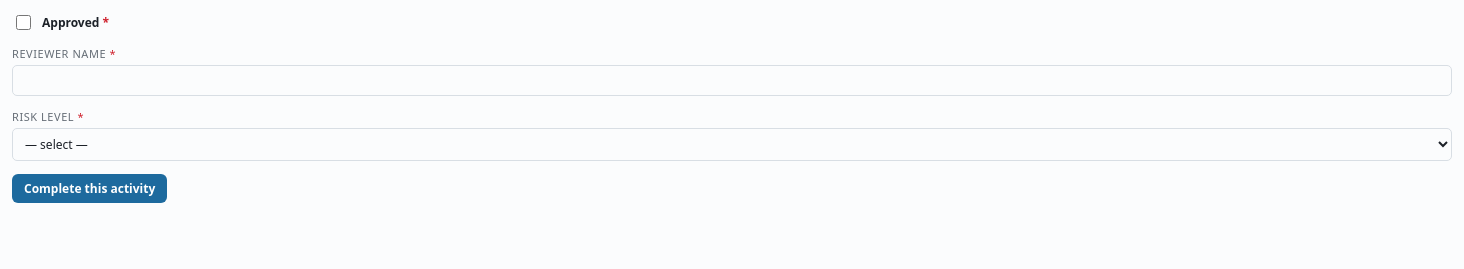
Test: CompleteForm › shows the server's field errors verbatim on a 400 and stays for a retry
The image size is (1464, 269).
// A client-clean submit (all required present) still reaches the server, which rejects it.
Click the checkbox labelled "Approved *".
click(24, 22)  # box [16,15,31,30]
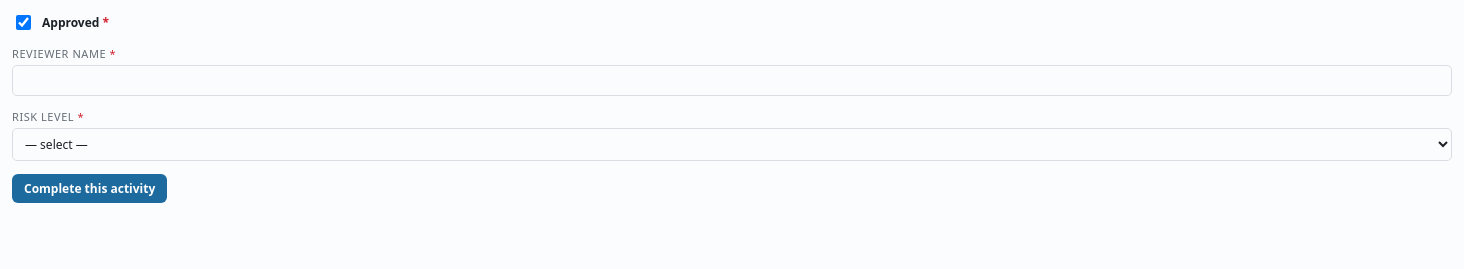
Type "Dana" into the field labelled "Reviewer name *".
click(732, 80); type("Dana")  # box [12,65,1452,96]
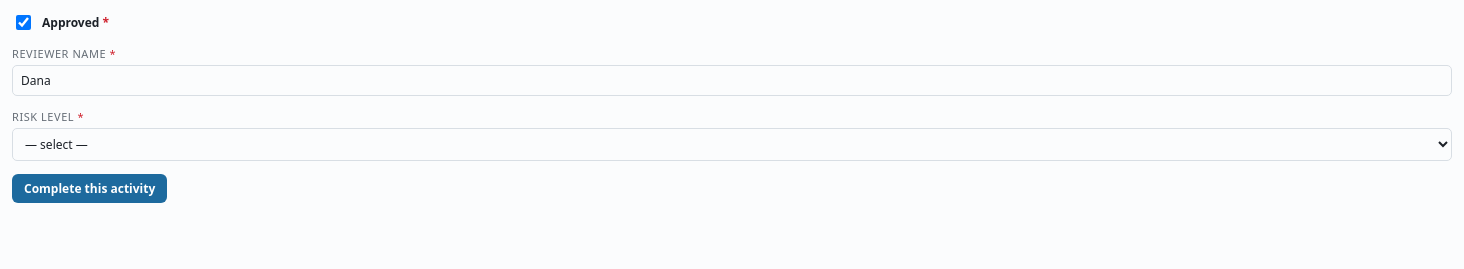
Select "high" in the dropdown labelled "Risk level *" at (732, 144), box [12,128,1452,161]
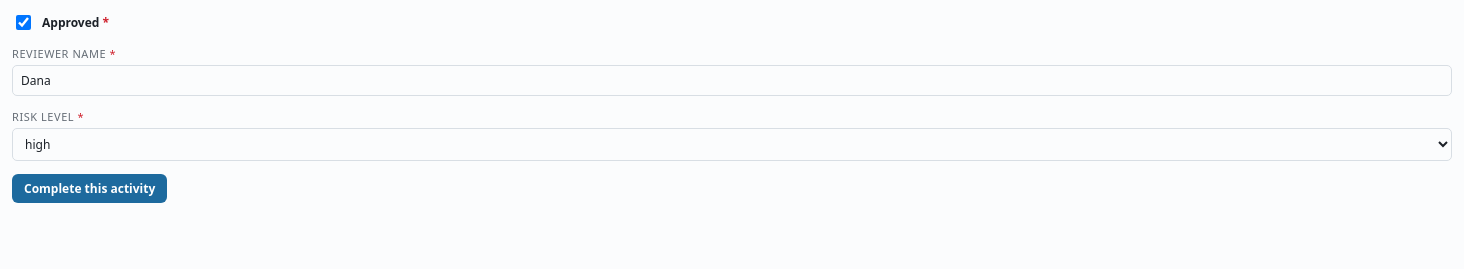
Click the button with test id "complete-submit".
click(90, 188)  # box [12,174,167,203]
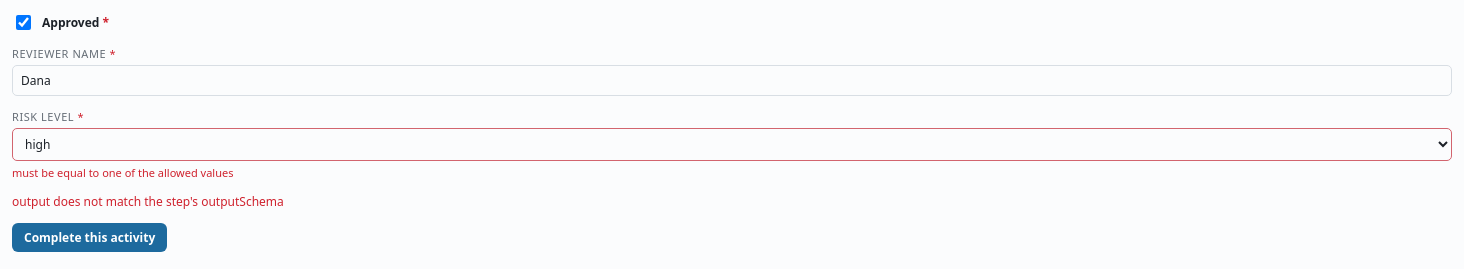
Check: the element with test id "complete-field-riskLevel" shows "must be equal to one of the allowed values", box [12,165,233,180]
